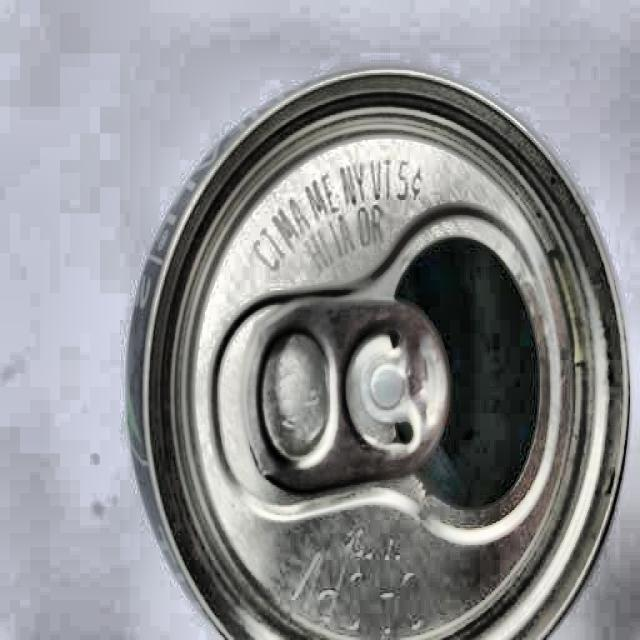metal: (124, 58, 637, 640)
